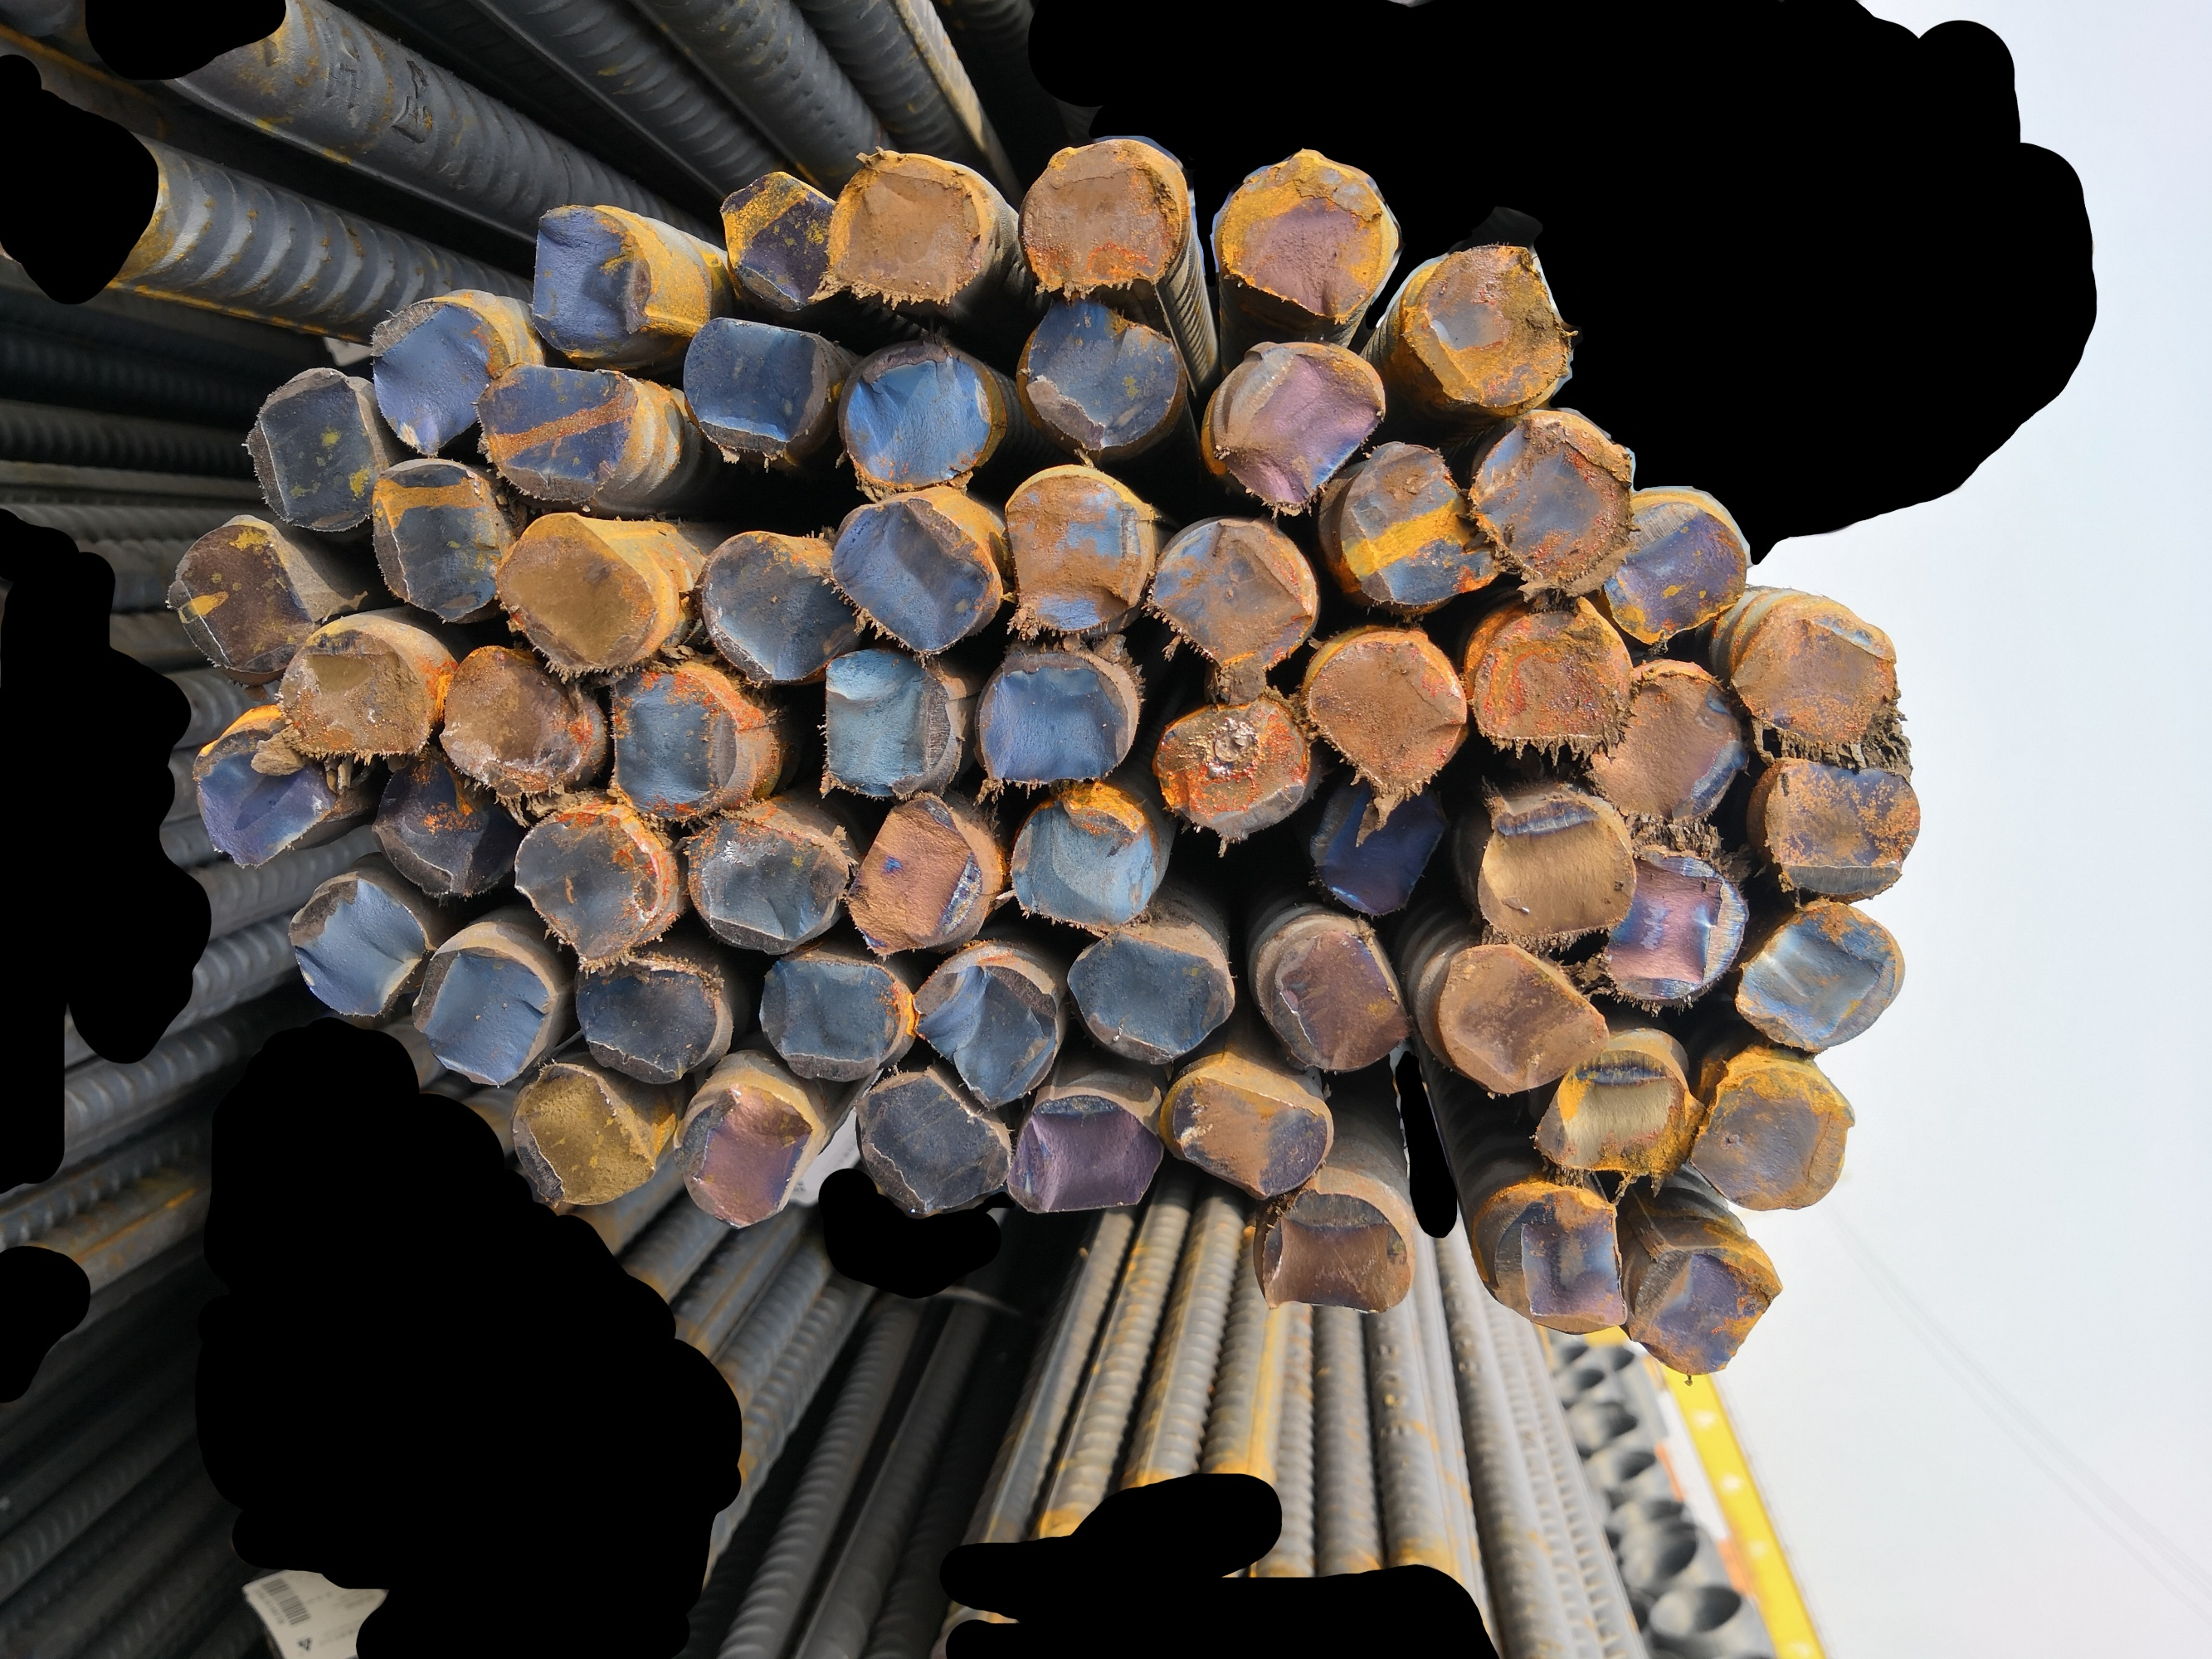rebar: (1215, 333, 1393, 512), (1220, 148, 1401, 324), (1330, 430, 1503, 615), (1297, 622, 1469, 798), (1398, 242, 1572, 415), (1727, 586, 1905, 755), (1471, 411, 1633, 596), (1583, 648, 1748, 828), (1426, 941, 1612, 1098), (488, 511, 661, 678), (1014, 134, 1194, 291), (1687, 1060, 1867, 1216), (1731, 899, 1912, 1054), (1154, 685, 1325, 849), (1018, 291, 1187, 453), (499, 1049, 662, 1215), (1154, 512, 1321, 674), (1468, 596, 1635, 758), (821, 146, 985, 310), (828, 495, 994, 657), (237, 364, 392, 537), (690, 528, 865, 681), (1001, 462, 1150, 640), (1761, 749, 1926, 910), (511, 803, 669, 971), (368, 288, 519, 462), (277, 864, 432, 1032), (370, 739, 521, 910), (675, 308, 835, 467), (1473, 1183, 1632, 1344), (1473, 796, 1640, 948), (1065, 927, 1239, 1072), (1598, 484, 1752, 648), (833, 336, 999, 488), (685, 805, 852, 955), (1600, 843, 1748, 1012), (164, 519, 317, 681), (1532, 1035, 1701, 1182), (183, 713, 333, 877), (472, 354, 641, 498), (1159, 1072, 1333, 1211), (605, 652, 746, 823), (856, 1072, 1013, 1225), (976, 647, 1140, 793), (411, 934, 561, 1093), (844, 795, 985, 962), (1269, 913, 1410, 1080), (666, 1084, 821, 1236), (913, 958, 1063, 1114), (441, 645, 593, 796), (279, 624, 439, 767), (366, 457, 504, 622), (1008, 789, 1163, 936), (1250, 1183, 1412, 1321), (1630, 1236, 1783, 1378), (819, 645, 960, 800), (758, 945, 917, 1082), (568, 948, 725, 1086), (713, 157, 851, 312), (528, 199, 657, 364), (1304, 774, 1449, 918), (1006, 1093, 1166, 1218)
